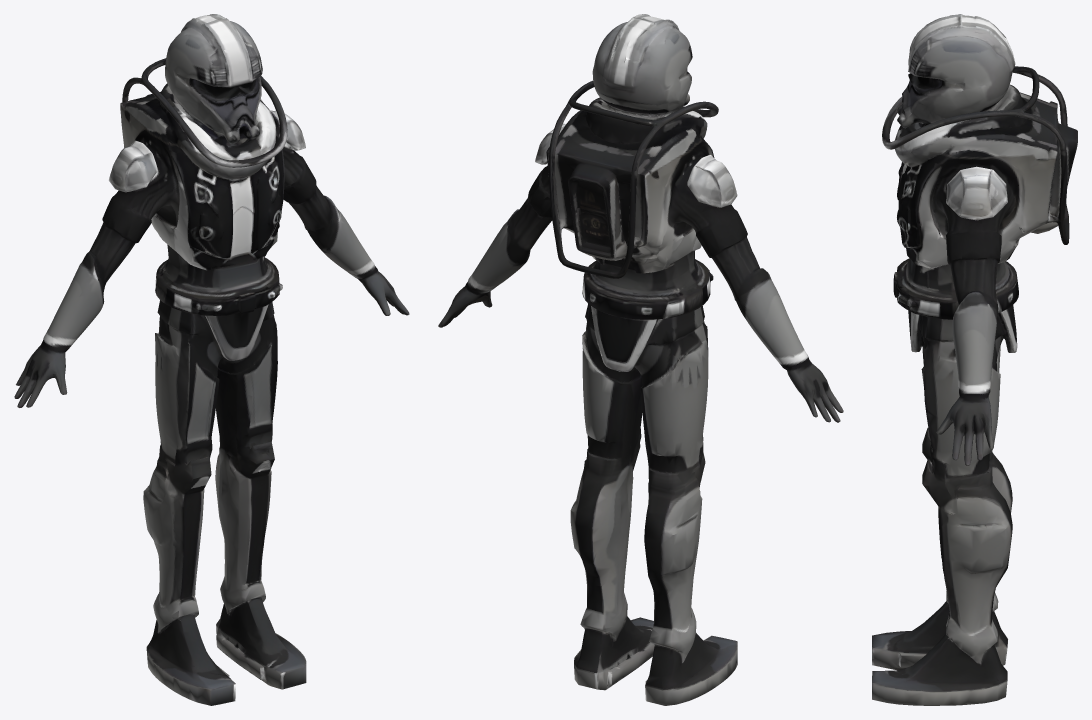
The model's file is first_order_scuba_trooper.glb.
The picture shows the model from 3 angles, left to right: view 1: azimuth 30°, elevation 25°; view 2: azimuth 150°, elevation 25°; view 3: azimuth 270°, elevation 25°; orthographic projection. The views are drawn at different scales.
Parts seen in each view (by area): view 1: model; view 2: model; view 3: model.
Part boxes in pixels (box(x1,y1,x2,y2)): model: box(14, 14, 409, 705); model: box(438, 14, 843, 705); model: box(872, 14, 1077, 705).
Bounding box in the file's own units: 1.19 × 1.9 × 0.5357.
Materials: 1 (1 with a texture image).
